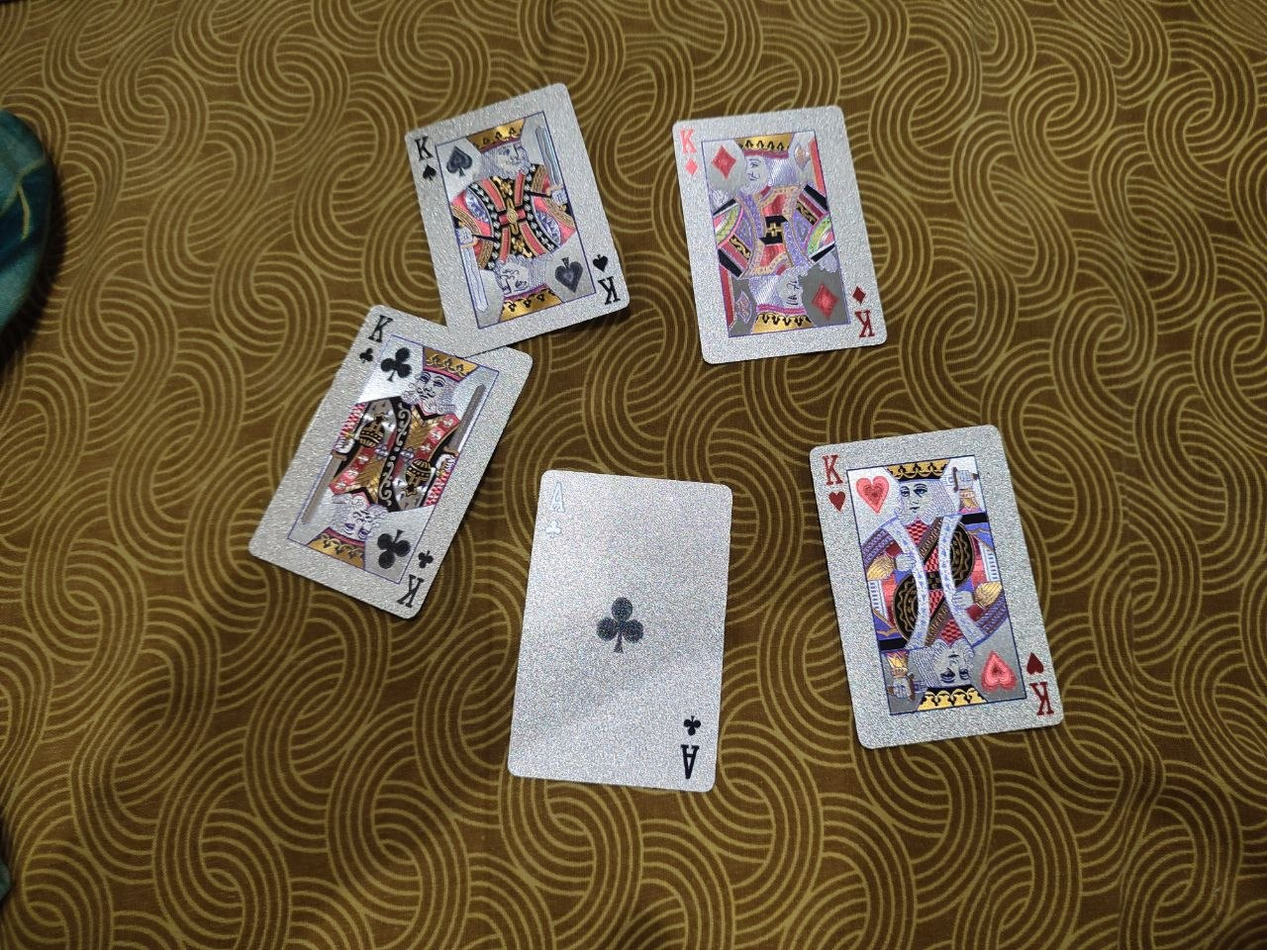AC: (509, 466, 732, 792)
KC: (243, 302, 532, 618)
KD: (669, 101, 892, 365)
KH: (803, 420, 1072, 747)
KS: (404, 81, 631, 357)
